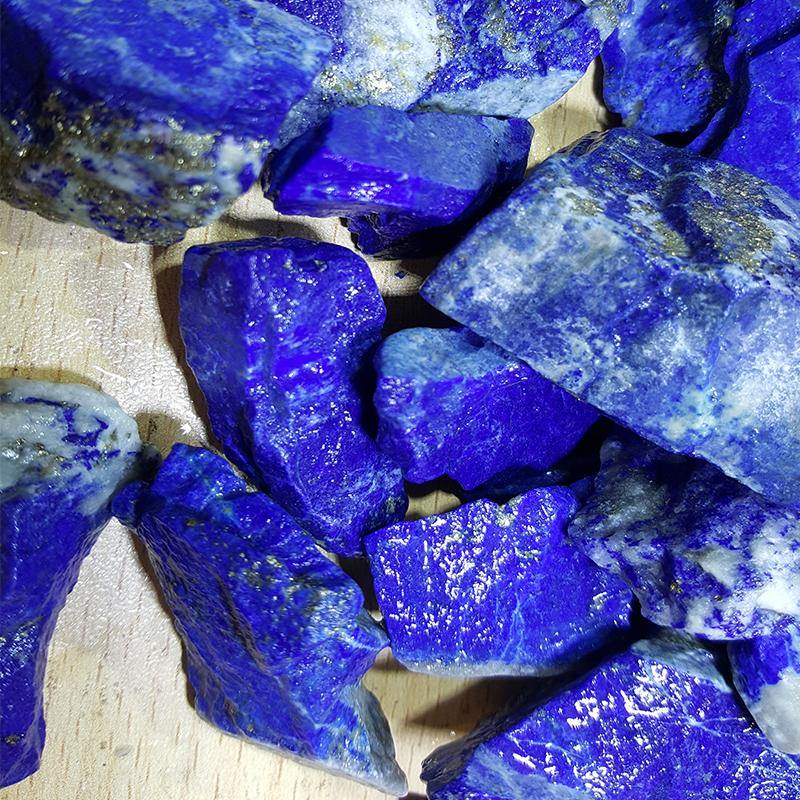Lapis_Lazuli: (435, 140, 794, 502), (179, 238, 454, 541), (388, 486, 672, 666), (276, 95, 535, 211), (517, 488, 551, 544)
